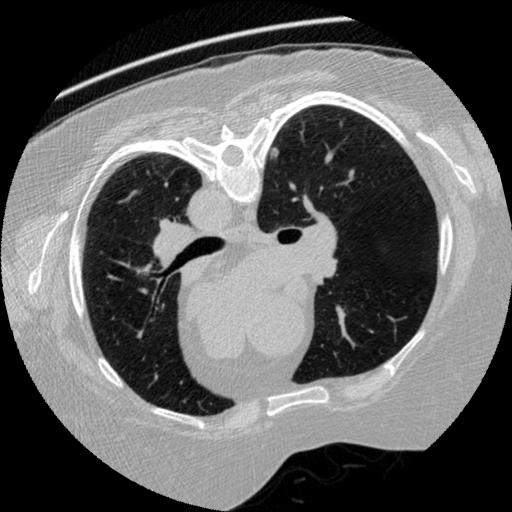nodule: (268, 146, 284, 162)
